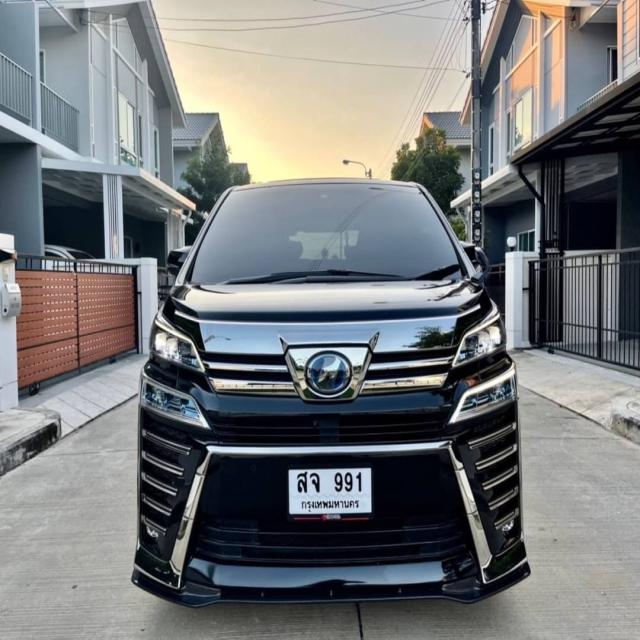license_plate: (285, 465, 374, 524)
